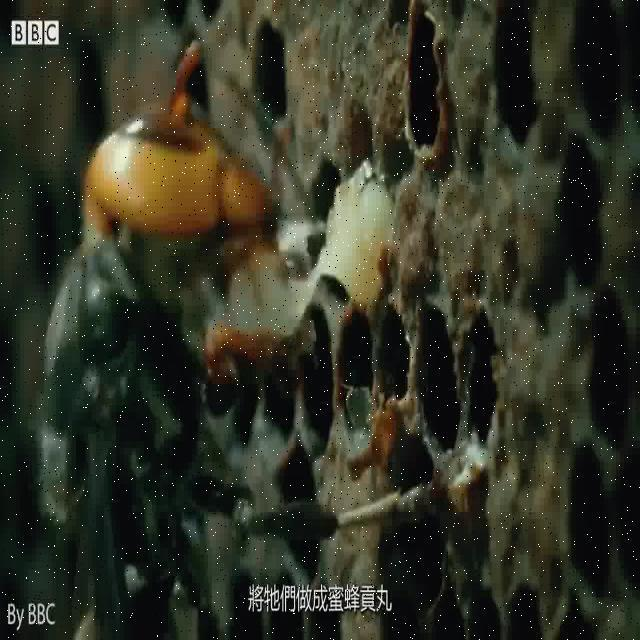Wasp: (9, 47, 443, 574)
